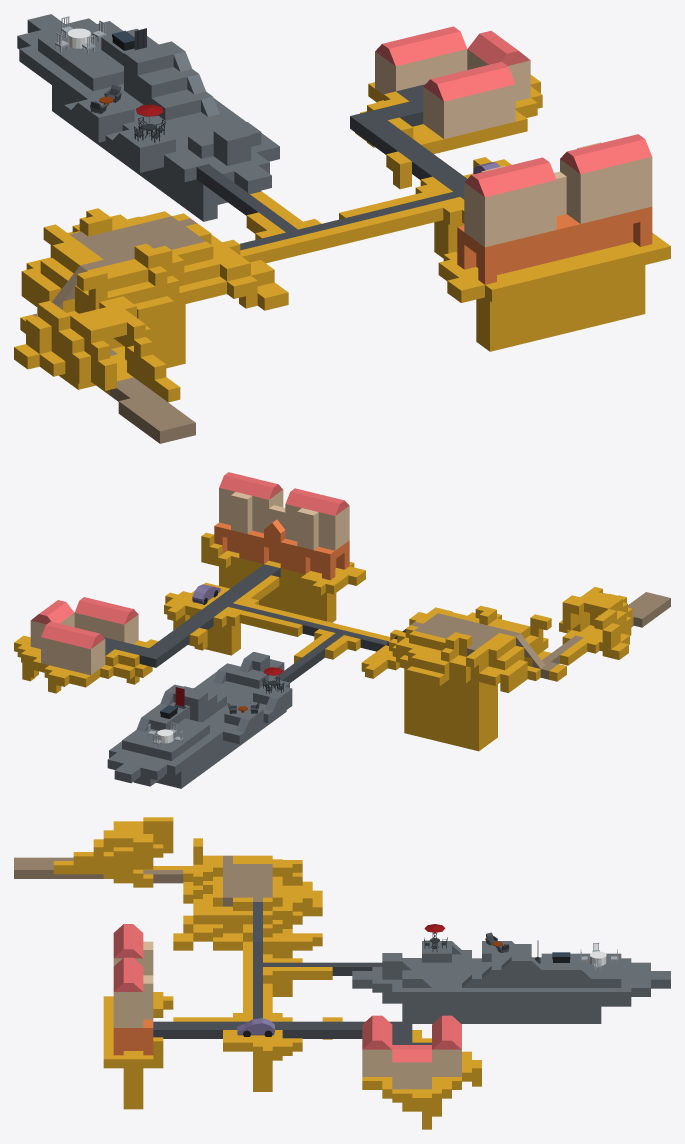
Rendered from Battleship Momento.fbx.
The picture shows the model from 3 angles, top to bottom: view 1: azimuth 30°, elevation 25°; view 2: azimuth 150°, elevation 25°; view 3: azimuth 270°, elevation 25°; orthographic projection. The views are drawn at different scales.
Visible parts, largest first — view 1: Cube.600, Cube.005, Tuscany, Garret Gardens, Streets, Walkable Sand, Cube.812, Cube.813; view 2: Cube.600, Cube.005, Tuscany, Garret Gardens, Streets, Walkable Sand, Cube.812; view 3: Cube.600, Cube.005, Streets, Garret Gardens, Tuscany, Walkable Sand, Cube.815.
Boxes of the visible parts, box(x1,y1,x2,y2) form: Cube.600: box(14, 75, 670, 402); Cube.005: box(17, 14, 279, 221); Tuscany: box(457, 134, 652, 284); Garret Gardens: box(375, 26, 530, 138); Streets: box(196, 84, 466, 250); Walkable Sand: box(33, 216, 205, 443); Cube.812: box(55, 16, 106, 53); Cube.813: box(133, 104, 165, 142); Cube.600: box(14, 532, 632, 751); Cube.005: box(107, 651, 292, 788); Tuscany: box(214, 472, 349, 580); Garret Gardens: box(30, 597, 138, 675); Streets: box(104, 564, 405, 682); Walkable Sand: box(410, 592, 670, 679); Cube.812: box(147, 722, 183, 747); Cube.600: box(53, 817, 481, 1129); Cube.005: box(352, 941, 670, 1023); Streets: box(153, 902, 431, 1044); Garret Gardens: box(362, 1015, 461, 1089); Tuscany: box(113, 924, 153, 1055); Walkable Sand: box(14, 855, 272, 906); Cube.815: box(237, 1018, 274, 1036).
Bounding box in the file's own units: 5800 × 1600 × 6600.
